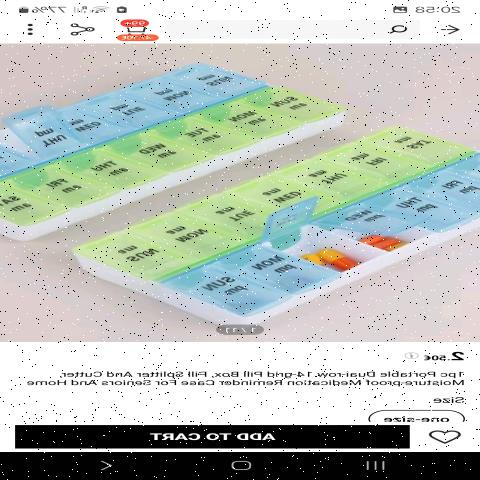Pill-box: (72, 117, 478, 337)
